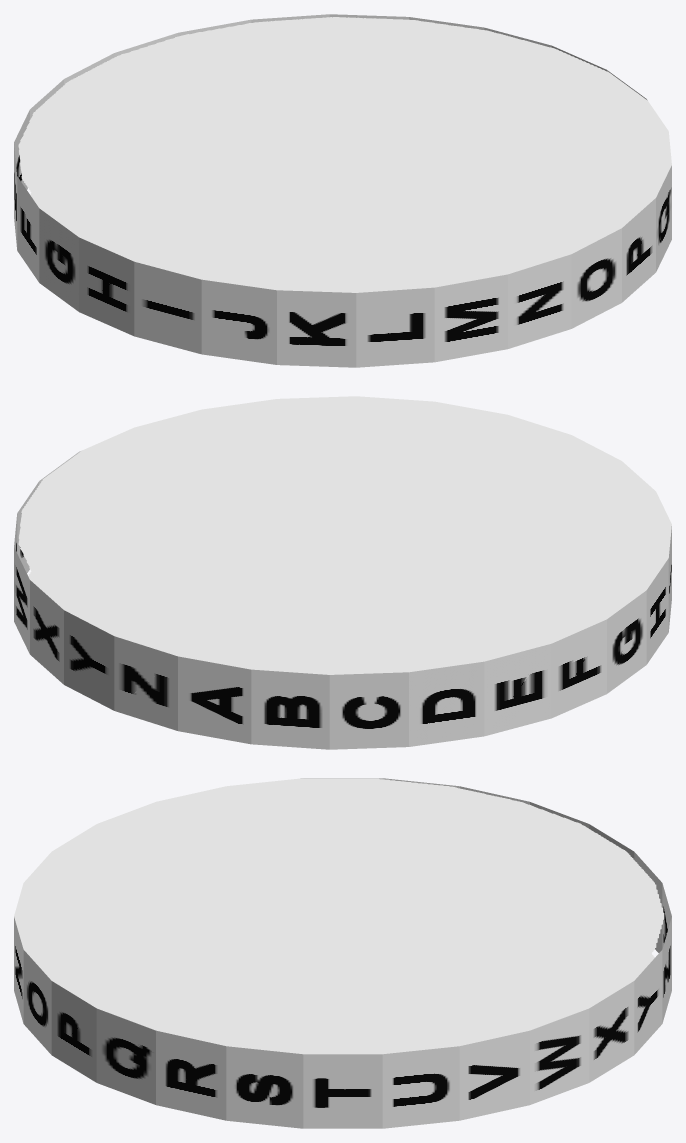
The model's file is letterwheel.dae.
3 views of the same model, one above another, from view 1: azimuth 30°, elevation 25°; view 2: azimuth 150°, elevation 25°; view 3: azimuth 270°, elevation 25° (orthographic).
Visible parts, largest first — view 1: Cylinder; view 2: Cylinder; view 3: Cylinder.
Boxes of the visible parts, bbox=[...] form: Cylinder: bbox=[14, 14, 671, 367]; Cylinder: bbox=[14, 396, 671, 749]; Cylinder: bbox=[14, 778, 671, 1128].
Bounding box in the file's own units: 1.99 × 2 × 0.25.
Materials: 1 (1 with a texture image).
